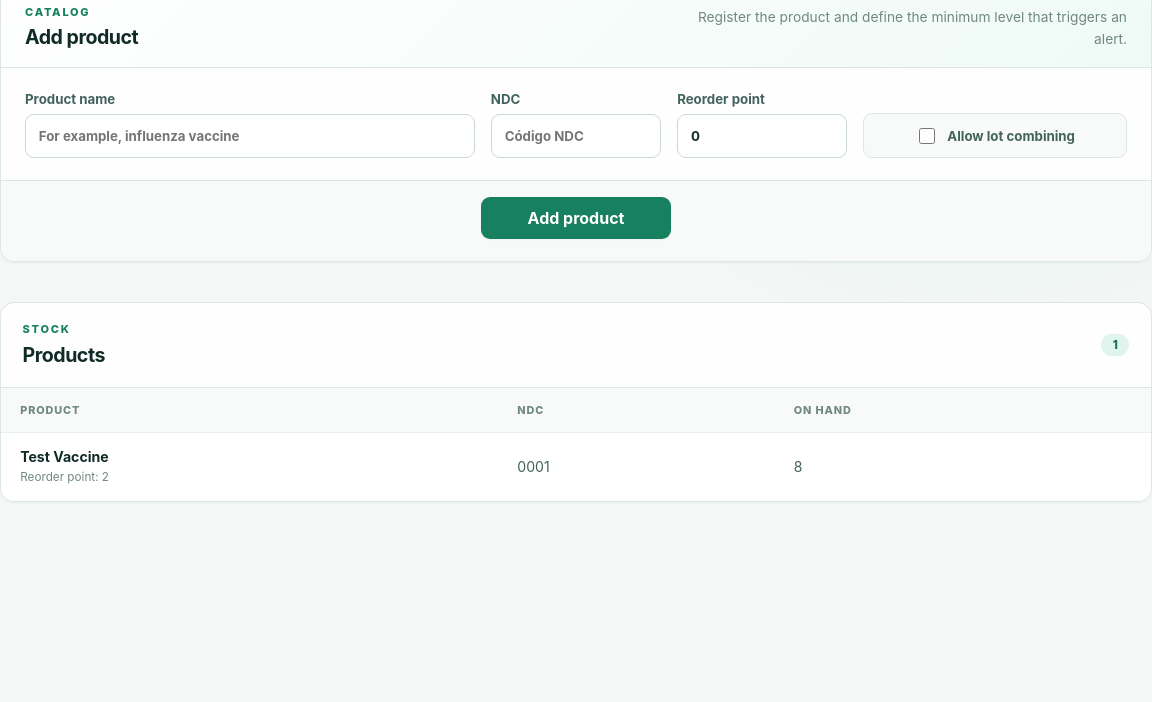
Test case: InventoryWorkspace › loads products and opens their lot ledger
Click the text "Test Vaccine" at (64, 457), box left=20, top=448, right=109, bottom=465
(page scrolled)
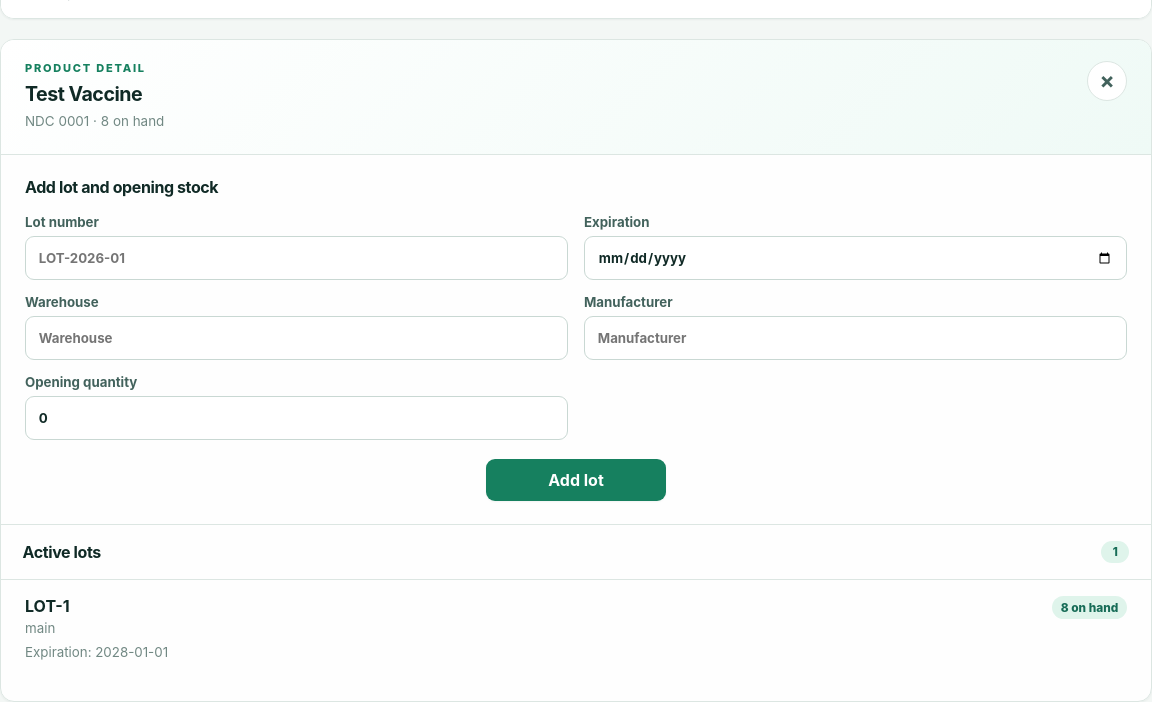
Expected: the text "LOT-1" is shown, left=25, top=596, right=70, bottom=616
Expected: the text "8 on hand" is shown, left=1052, top=596, right=1127, bottom=619
